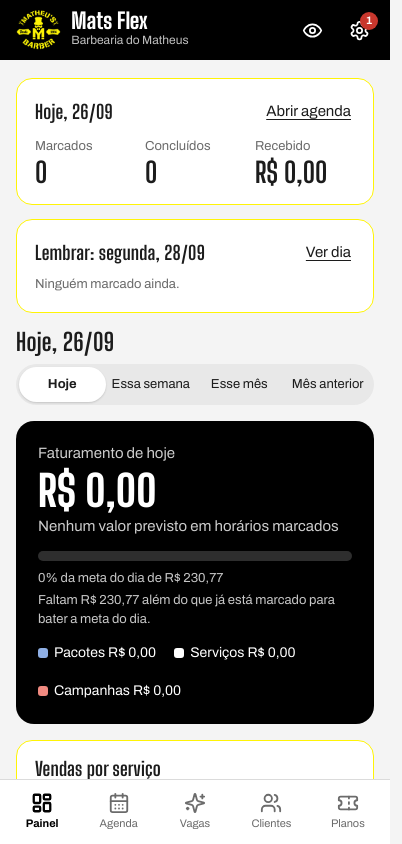
Test: aviso de backup › o aviso aparece na tela de ajustes com o botão de fazer backup
The width and height of the screenshot is (402, 844).
Click the button named "Ajustes".
click(360, 30)  # box x1=341 y1=12 x2=378 y2=48
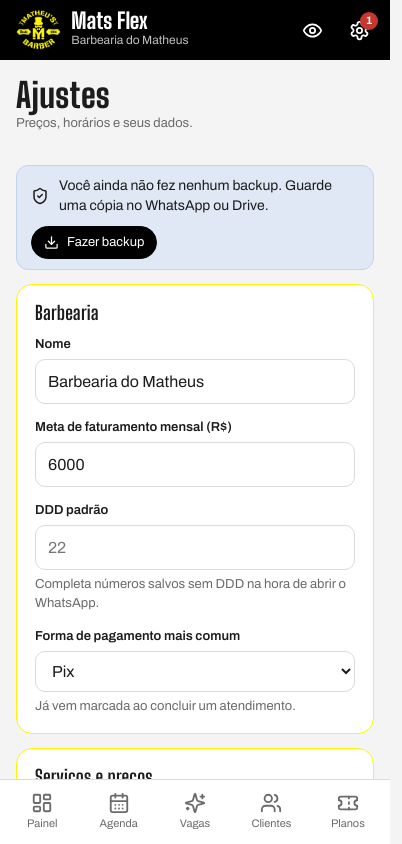
Result: the button "Fazer backup" is shown at x1=31 y1=226 x2=157 y2=259
